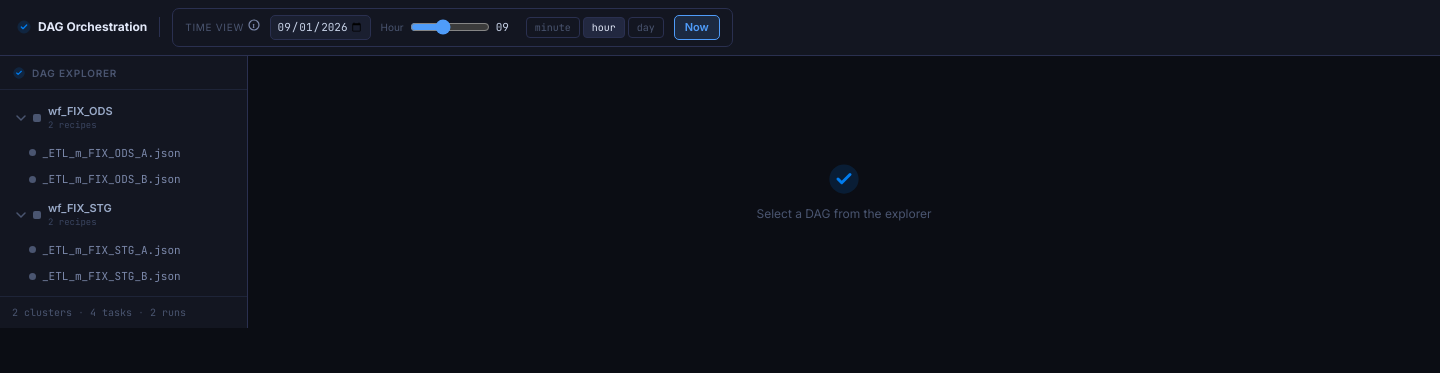
Scenario: ETLDag — errors that used to read as "nothing ran" › says the run state for the date could not be loaded, rather than painting a grey DAG
Click the text "wf_FIX_ODS". click: (80, 110)
box: [48,104,113,118]
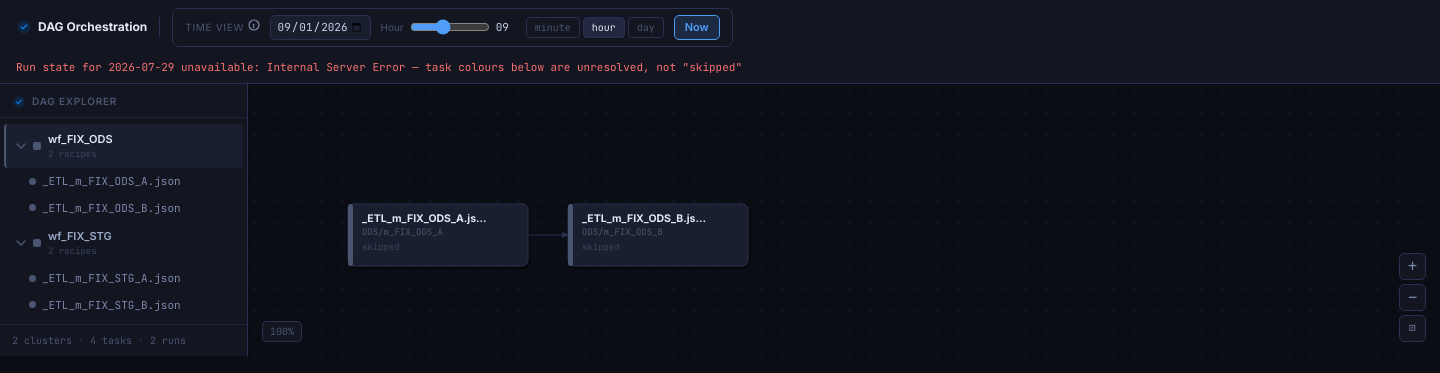
expect the text with test id "snapshot-error" shows "Internal Server Error": met, box [16,60,742,74]
